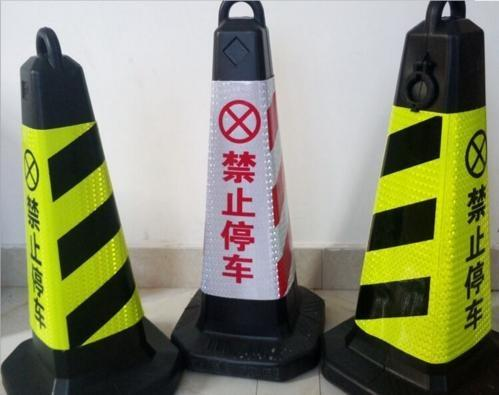cone_barrel: (332, 10, 497, 377), (4, 22, 161, 385), (177, 0, 322, 377)
